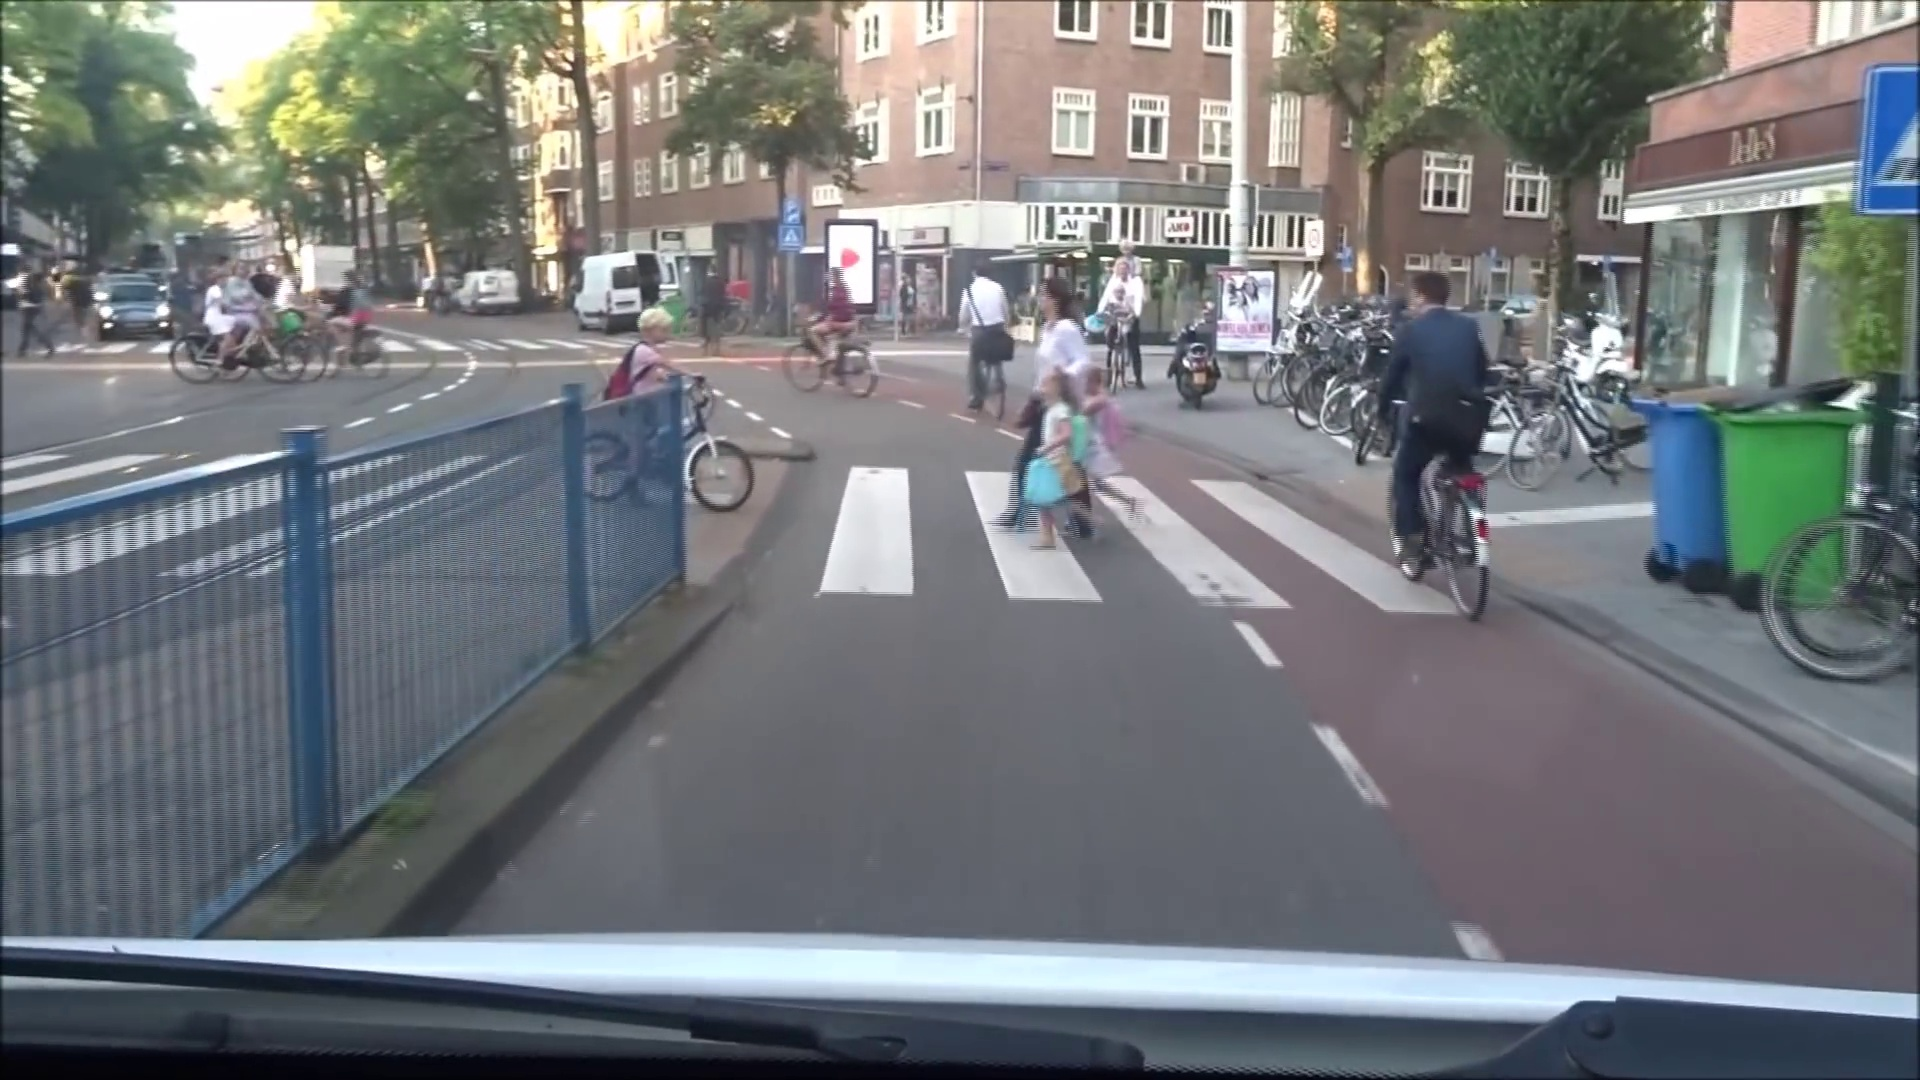cyclist_back: (1361, 262, 1501, 638), (944, 256, 1016, 425)
cyclist_front: (1094, 250, 1148, 402)
cyclist_side: (573, 307, 776, 527), (179, 272, 310, 392), (782, 262, 882, 410)
